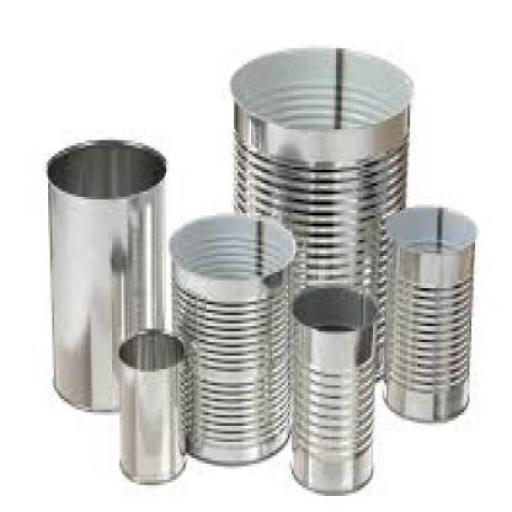metal: (230, 43, 411, 380), (166, 213, 298, 466), (44, 134, 162, 410), (380, 202, 474, 421), (289, 277, 373, 496), (112, 326, 187, 483)
